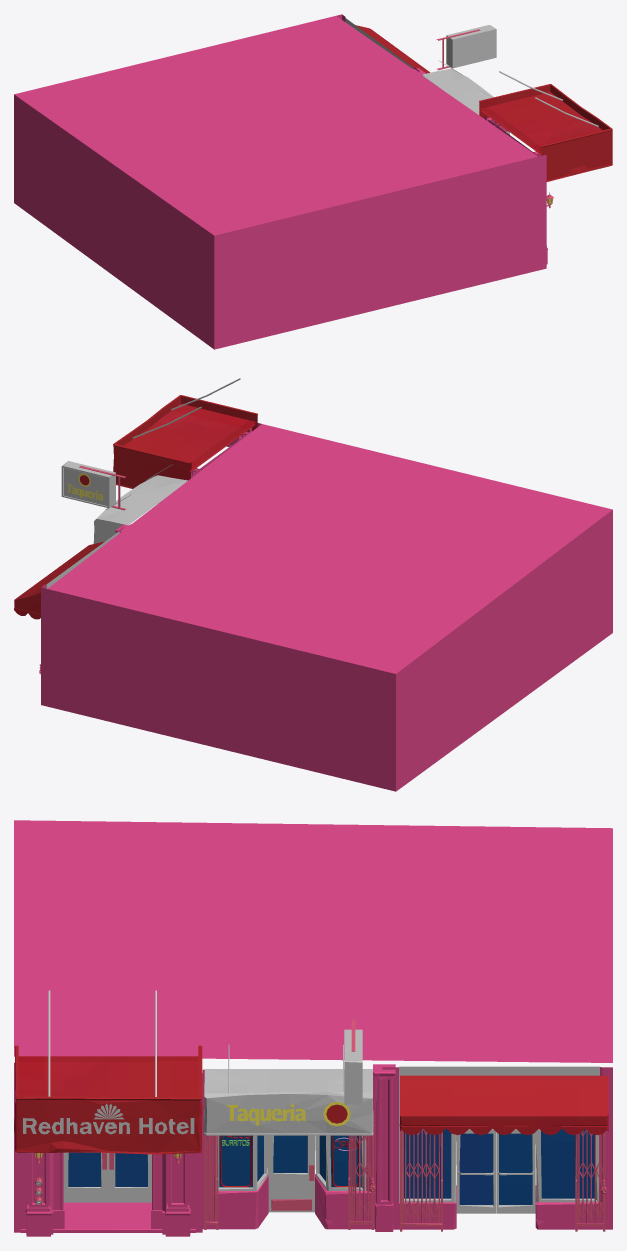
File: StoreFront00.fbx
The picture shows the model from 3 angles, top to bottom: view 1: azimuth 30°, elevation 25°; view 2: azimuth 150°, elevation 25°; view 3: azimuth 270°, elevation 25°; orthographic projection. The views are drawn at different scales.
Parts seen in each view (by area): view 1: SM_StoreFront_01a.mo; view 2: SM_StoreFront_01a.mo; view 3: SM_StoreFront_01a.mo.
Part boxes in pixels (x1,y1,x2,y2): SM_StoreFront_01a.mo: (14,14,612,349); SM_StoreFront_01a.mo: (14,378,612,791); SM_StoreFront_01a.mo: (14,820,612,1236).
Size of the model in its own units: 1647 by 639 by 1428.
